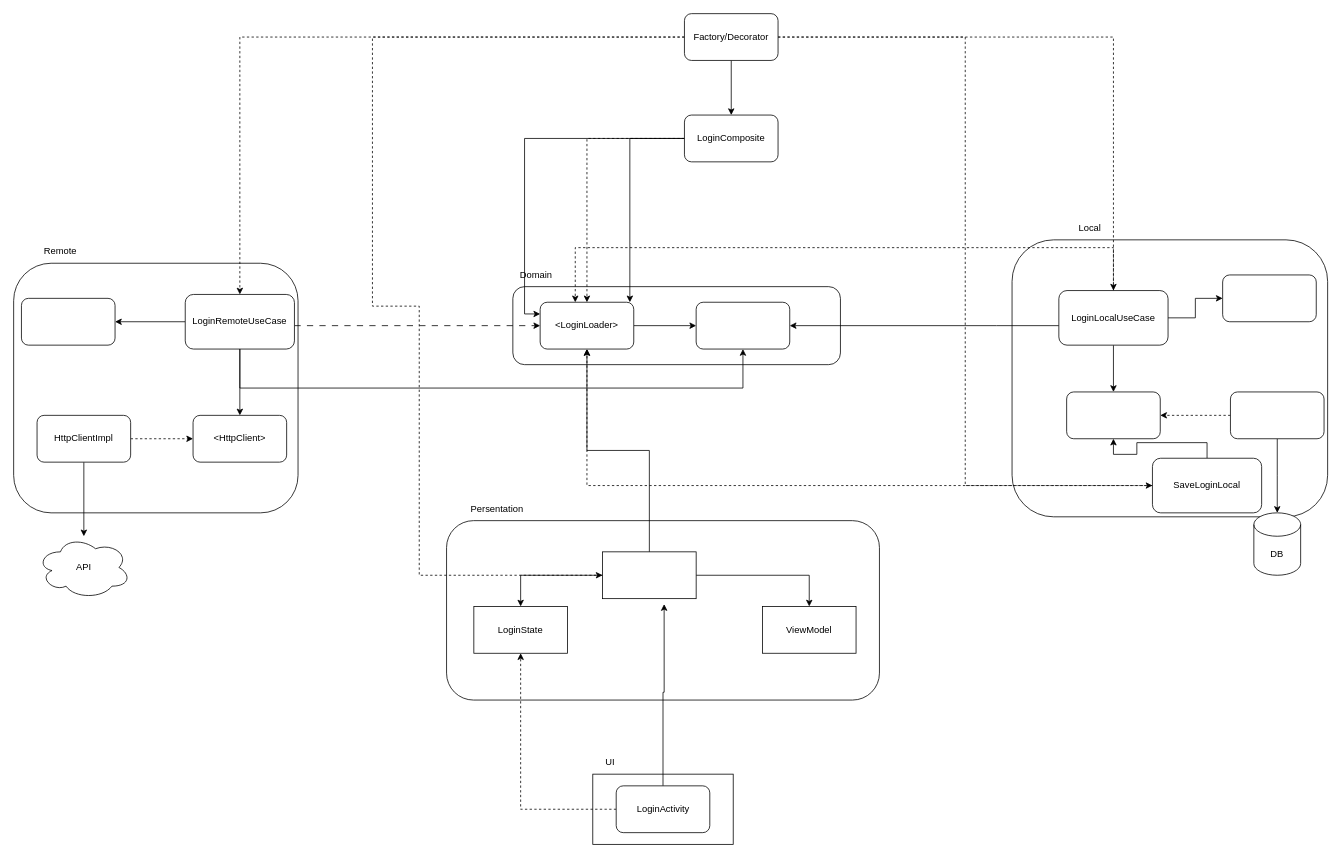
This 1342x858 diagram has some shape labels left out. The shapes that lost their labels are listed below. From the top down, each one's centre as x and y in pixels, then its label:
[1269,298]: LoginLocal
[68,321]: LoginRemote
[742,325]: Login
[1113,415]: <LocalDb>
[1277,415]: LocalDBImpl
[649,575]: LoginViewModel
